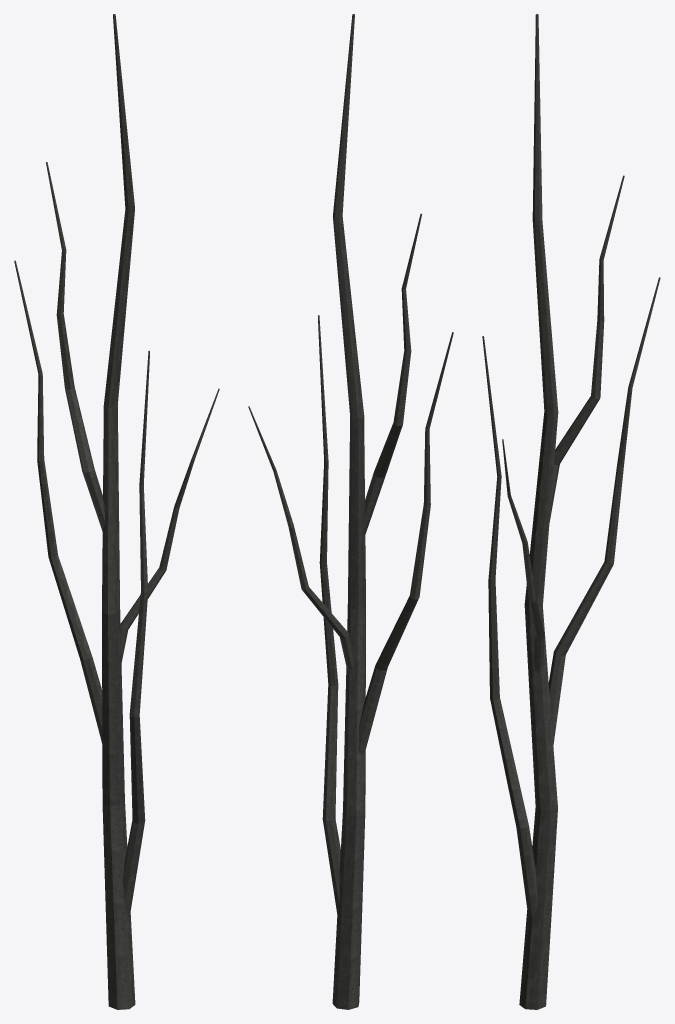
The model's file is Tree_thin03.fbx.
3 views of the same model, side by side, from view 1: azimuth 30°, elevation 25°; view 2: azimuth 210°, elevation 25°; view 3: azimuth 270°, elevation 25° (orthographic).
Parts seen in each view (by area): view 1: Tree_thin03; view 2: Tree_thin03; view 3: Tree_thin03.
Part boxes in pixels (x1,y1,x2,y2): Tree_thin03: [14, 14, 219, 1009]; Tree_thin03: [248, 14, 453, 1009]; Tree_thin03: [482, 14, 660, 1009].
Size of the model in its own units: 0.3784 by 2.83 by 0.4624.
Materials: 1 (1 with a texture image).
